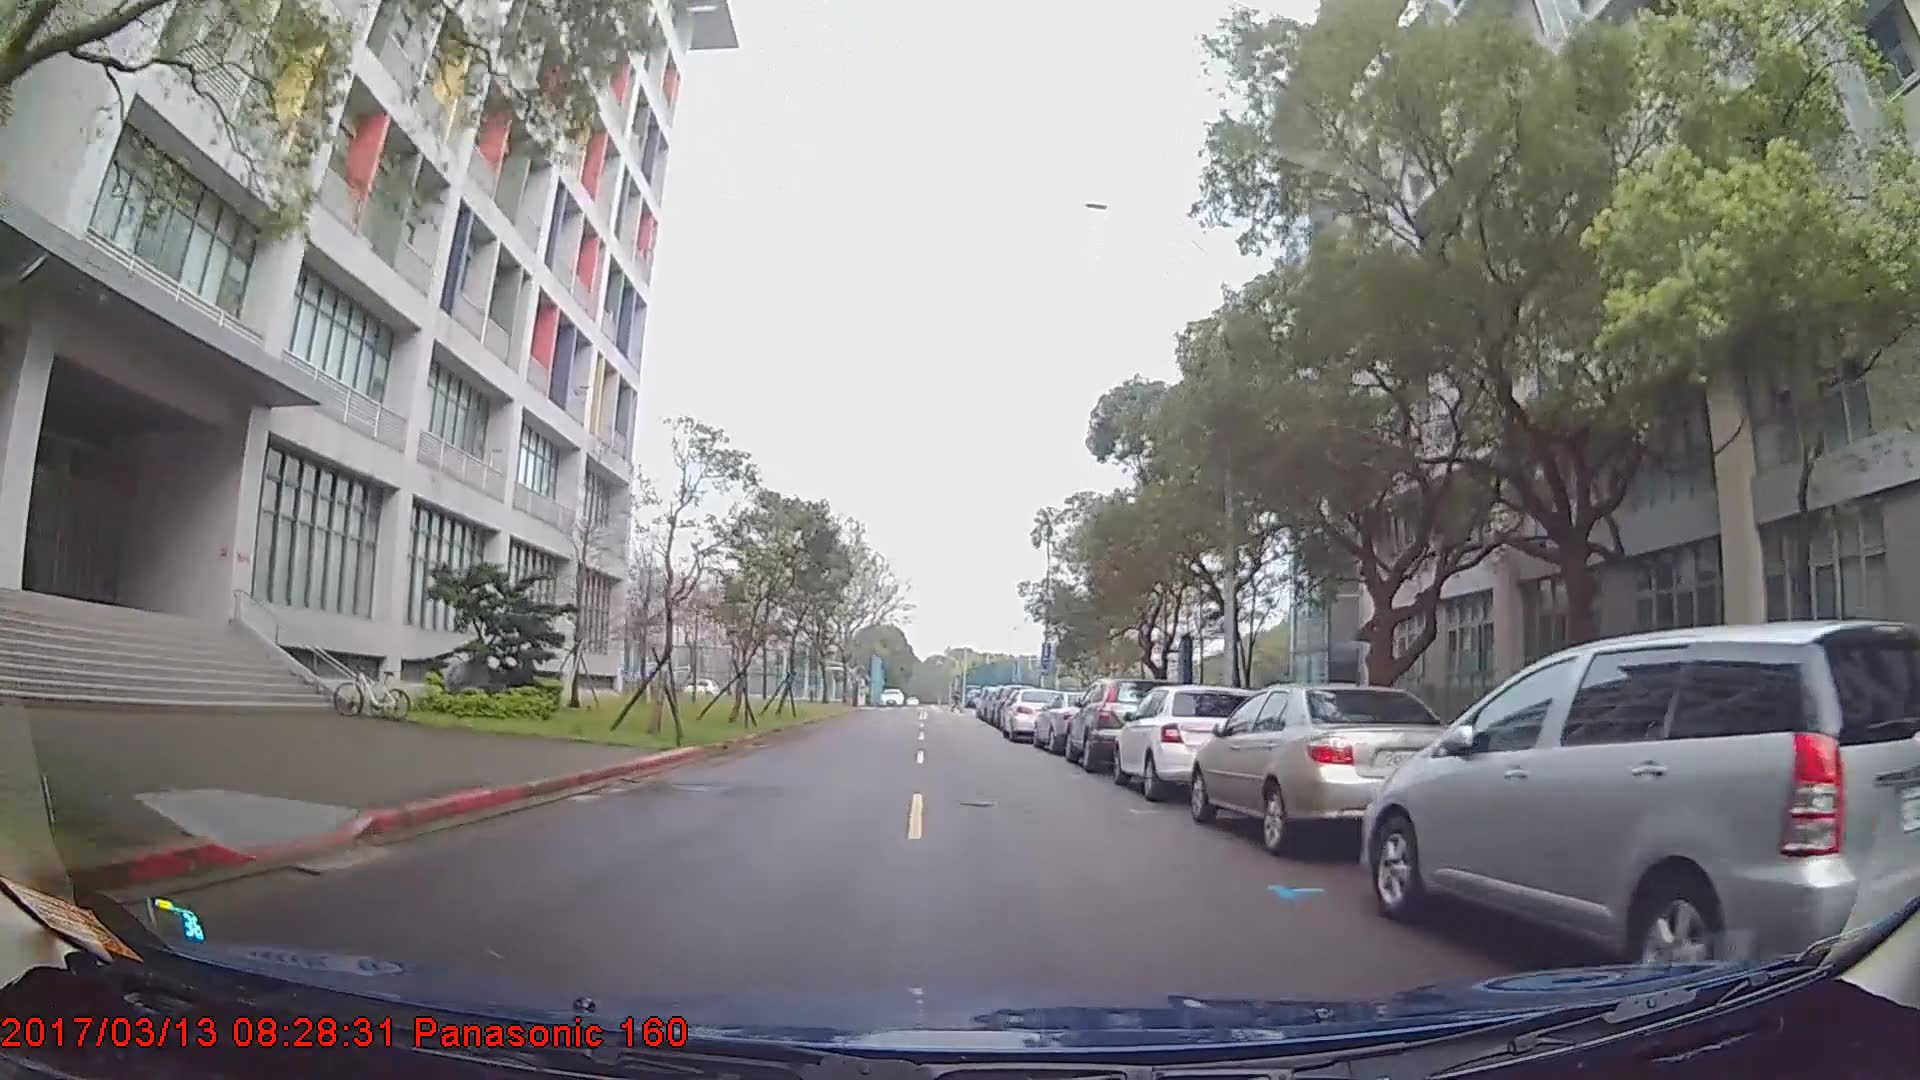vehicle: (1360, 612, 1920, 992), (1193, 680, 1472, 853), (1112, 683, 1258, 799), (1062, 676, 1174, 769), (1033, 687, 1117, 753), (998, 684, 1062, 742)
